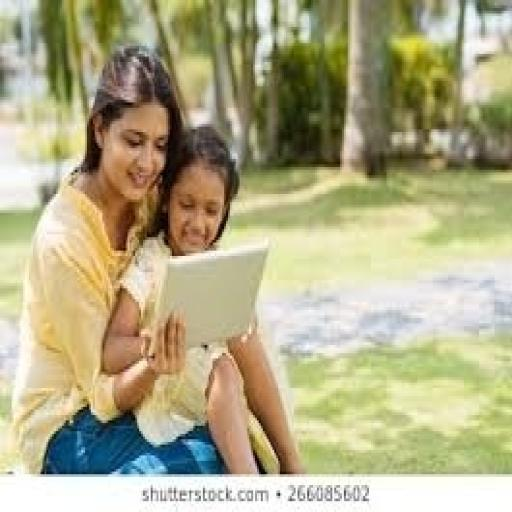sitting: (10, 40, 305, 474)
